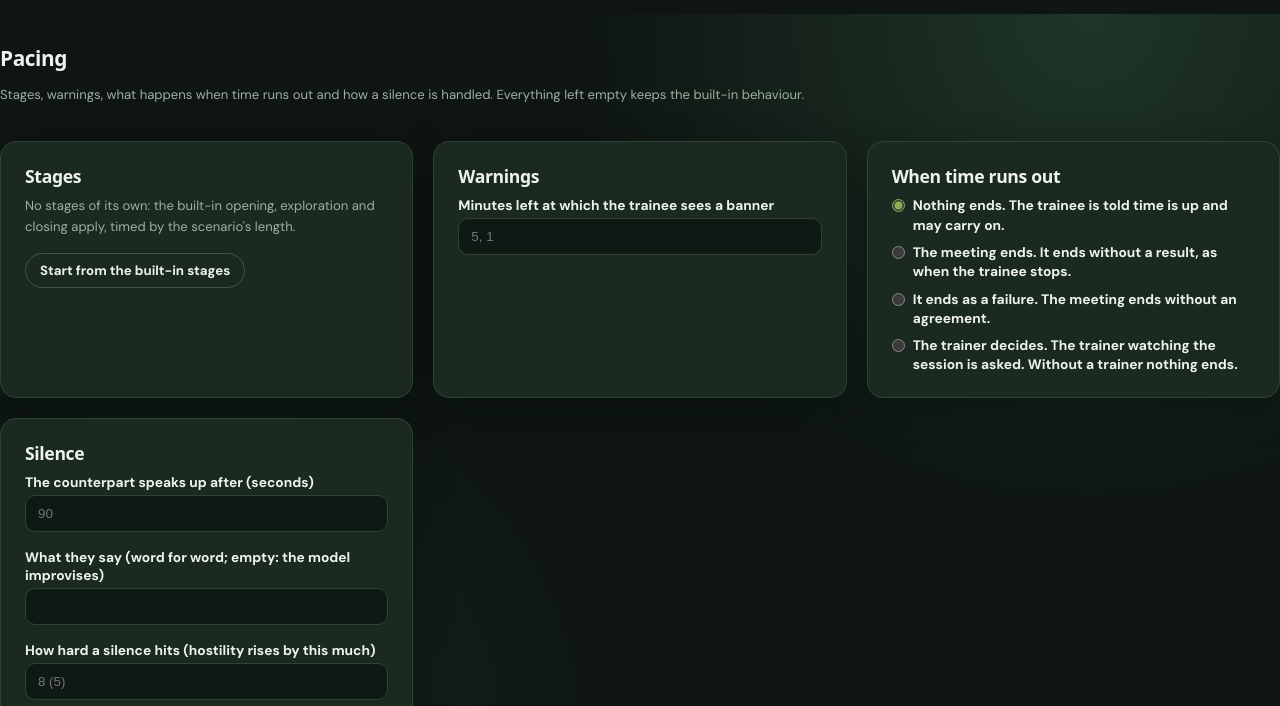
it: TimingField › offers the built-in stages as a starting point when the scenario has none
expect the text "No stages of its own" is shown: met, box [25, 198, 375, 235]
Click the button "Start from the built-in stages" at (135, 271), box [25, 253, 245, 288]
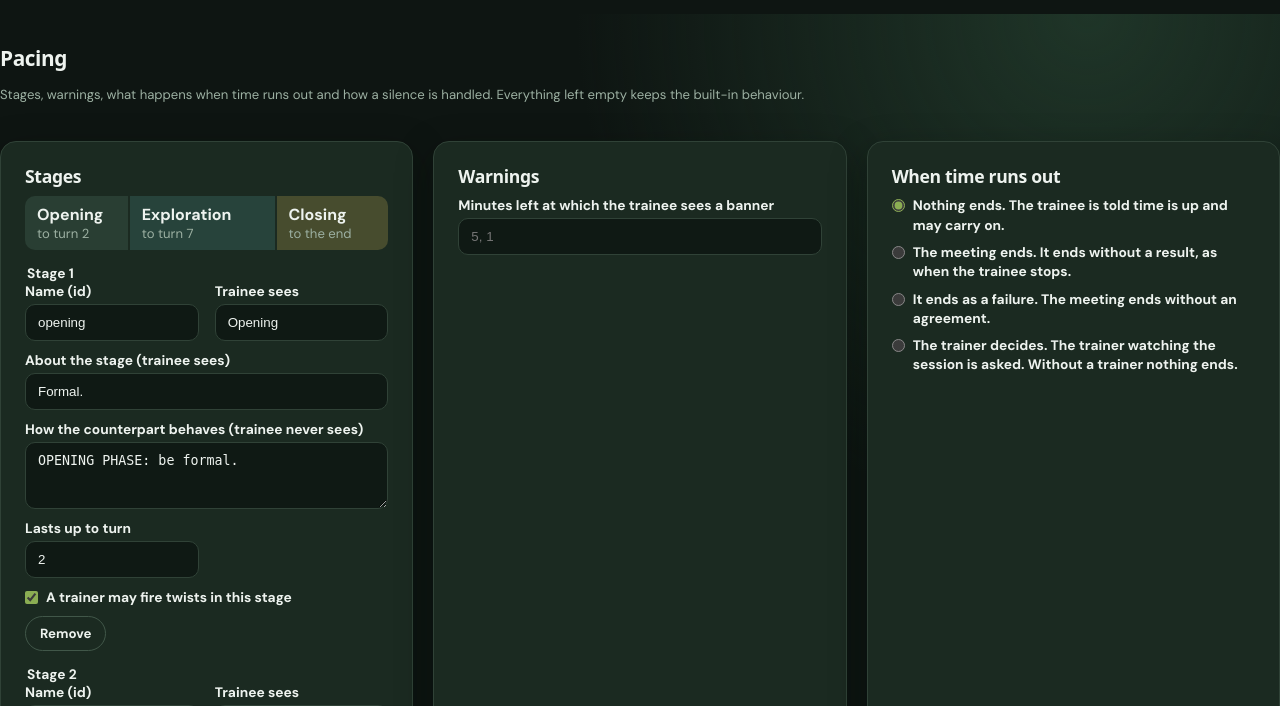
expect the list named "Stages on a timeline" shows "Exploration": met, box [142, 204, 232, 226]
